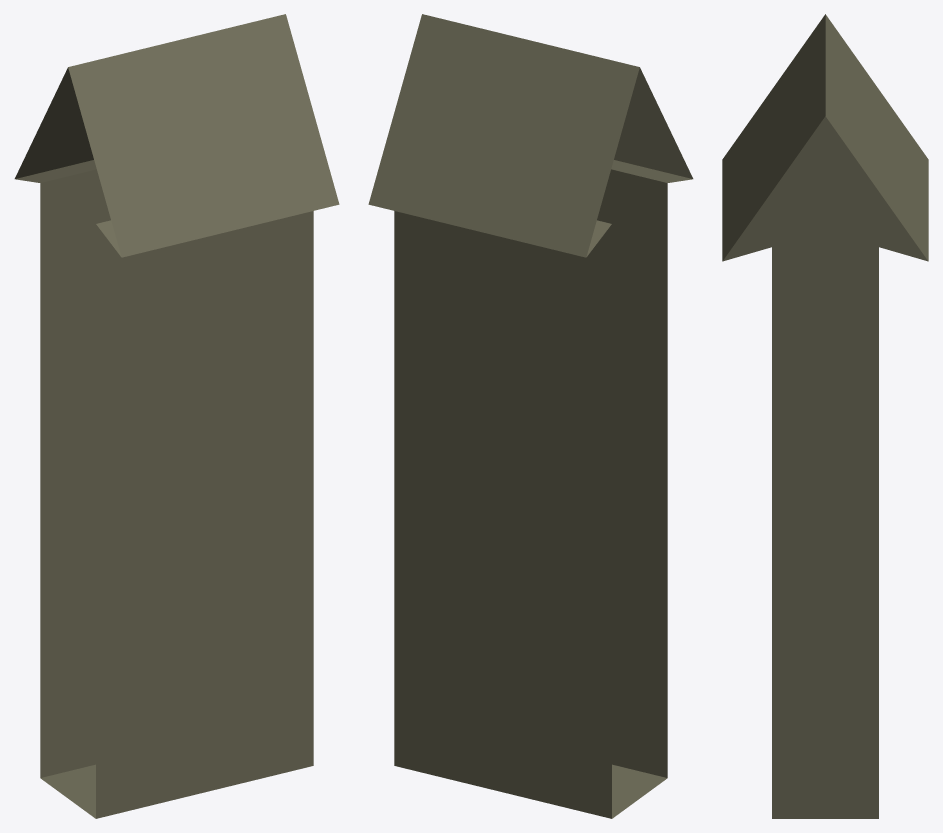
File: FenceEnd_v01.glb
3 renders of one model, left to right at view 1: azimuth 30°, elevation 25°; view 2: azimuth 150°, elevation 25°; view 3: azimuth 270°, elevation 25°, orthographic. The views are drawn at different scales.
Parts seen in each view (by area): view 1: SM_FenceEnd; view 2: SM_FenceEnd; view 3: SM_FenceEnd.
Boxes of the visible parts, <box> form: SM_FenceEnd: <box>14,14,339,818</box>; SM_FenceEnd: <box>368,14,693,818</box>; SM_FenceEnd: <box>722,14,928,818</box>.
Bounding box in the file's own units: 0.76 × 2.44 × 0.648.
